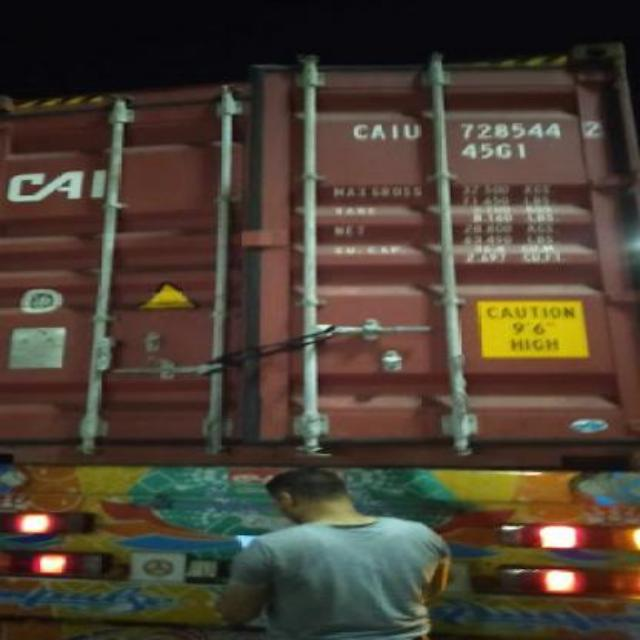2: (582, 119, 600, 137), (478, 121, 492, 141)
4: (546, 120, 562, 138), (528, 120, 544, 136)
5: (508, 121, 530, 141)
7: (462, 122, 474, 140)
8: (492, 122, 510, 140)
A: (370, 122, 388, 142)
C: (351, 123, 372, 139)
I: (390, 121, 400, 141)
U: (400, 121, 420, 141)
